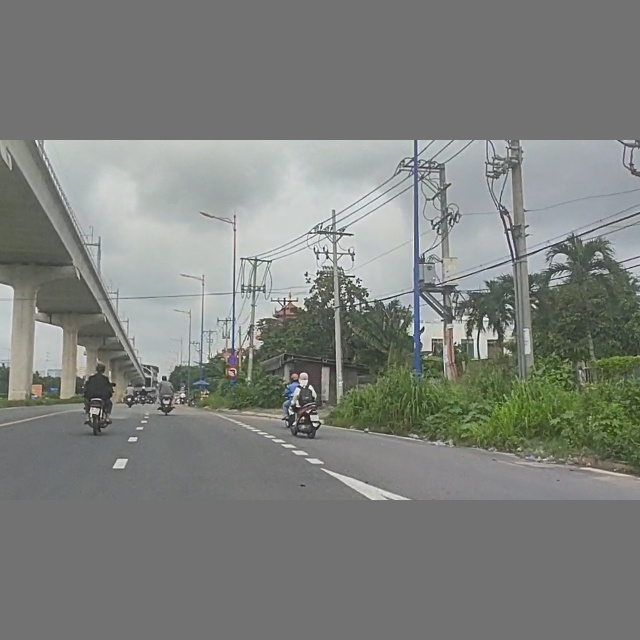P.123a: (226, 367, 239, 377)
P.130: (227, 355, 239, 367)
